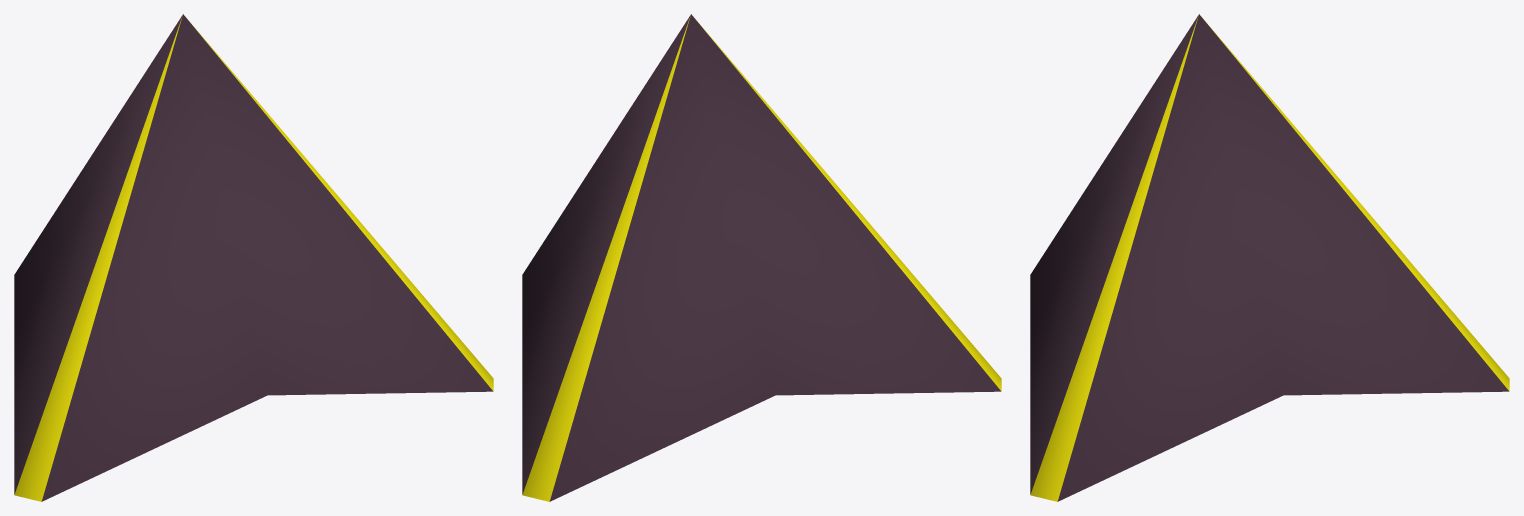
The model's file is Pointer.fbx.
3 renders of one model, left to right at view 1: azimuth 30°, elevation 25°; view 2: azimuth 150°, elevation 25°; view 3: azimuth 270°, elevation 25°, orthographic.
Parts seen in each view (by area): view 1: Cone; view 2: Cone; view 3: Cone.
Part boxes in pixels (x1,y1,x2,y2): Cone: [14, 14, 493, 501]; Cone: [522, 14, 1001, 501]; Cone: [1030, 14, 1509, 501].
Bounding box in the file's own units: 1.64 × 1.21 × 1.42.
